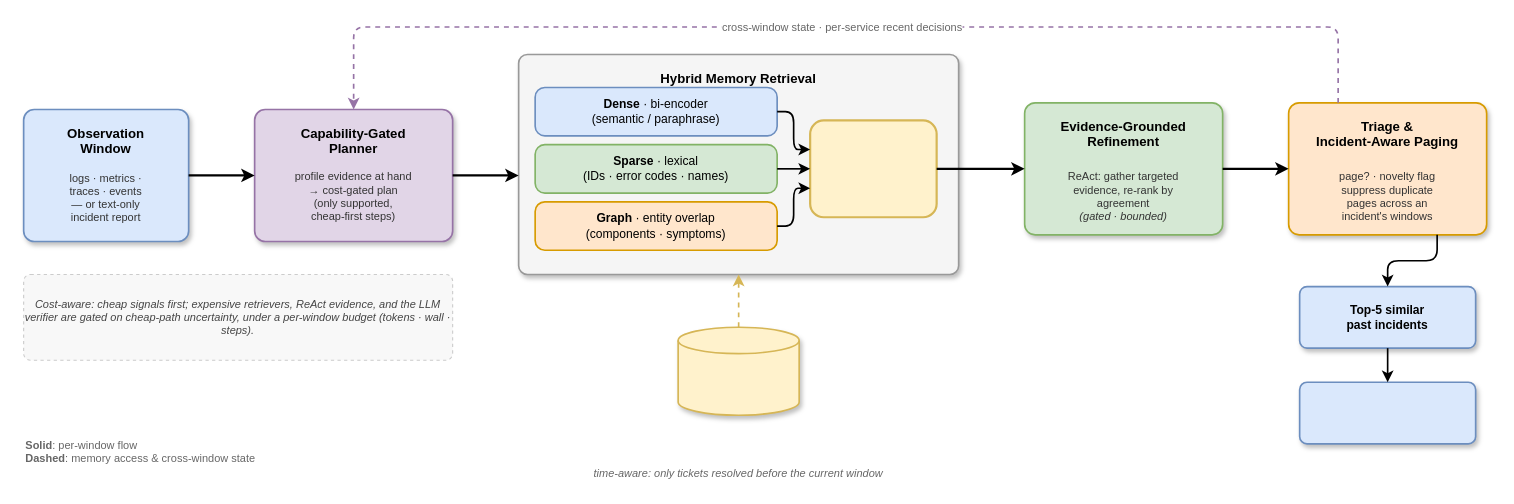
Image size: 1514x504. Some labels were removed from this diagram. Each missing label, with the centre of its shape:
"Memory Corpus resolved tickets + entities" belongs at [739,372].
"Reciprocal- Rank Fusion" belongs at [873,168].
"Triage decision page / suppress · novel?" belongs at [1388,414].
